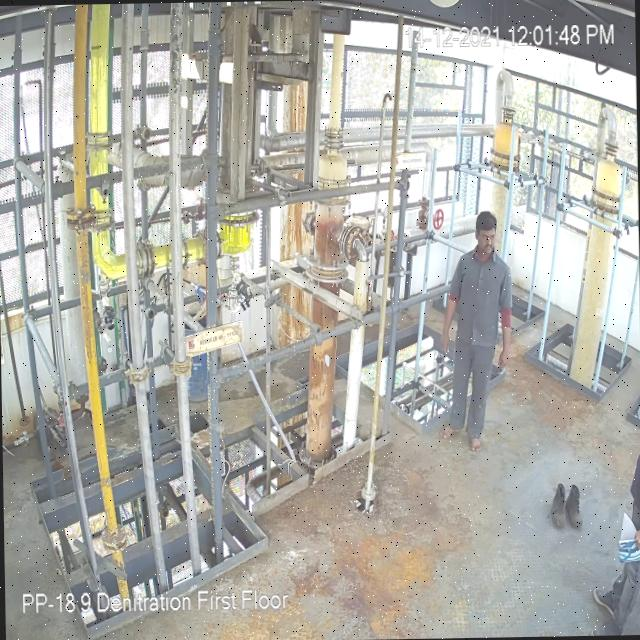boots: (548, 481, 572, 530), (566, 484, 585, 527)
no-boots: (436, 424, 462, 439), (466, 436, 482, 456)
